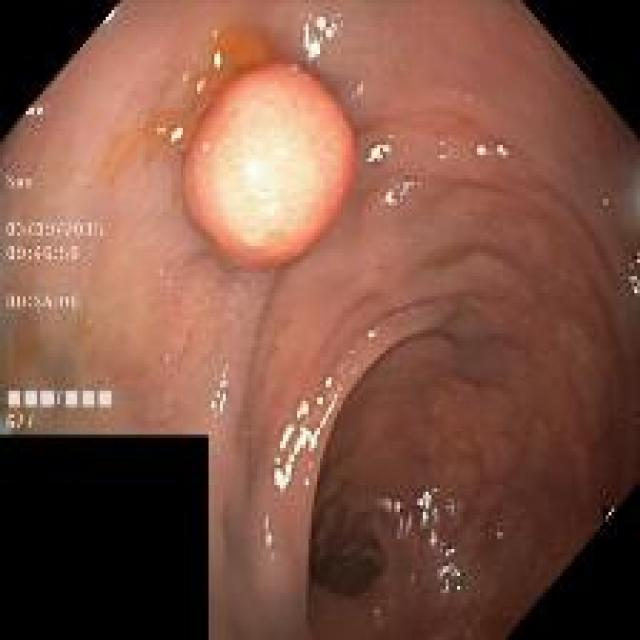Polyps: (184, 63, 355, 267)
